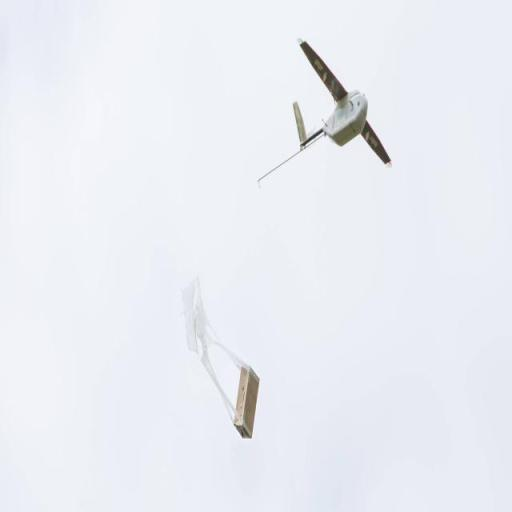uav: (251, 32, 404, 208)
